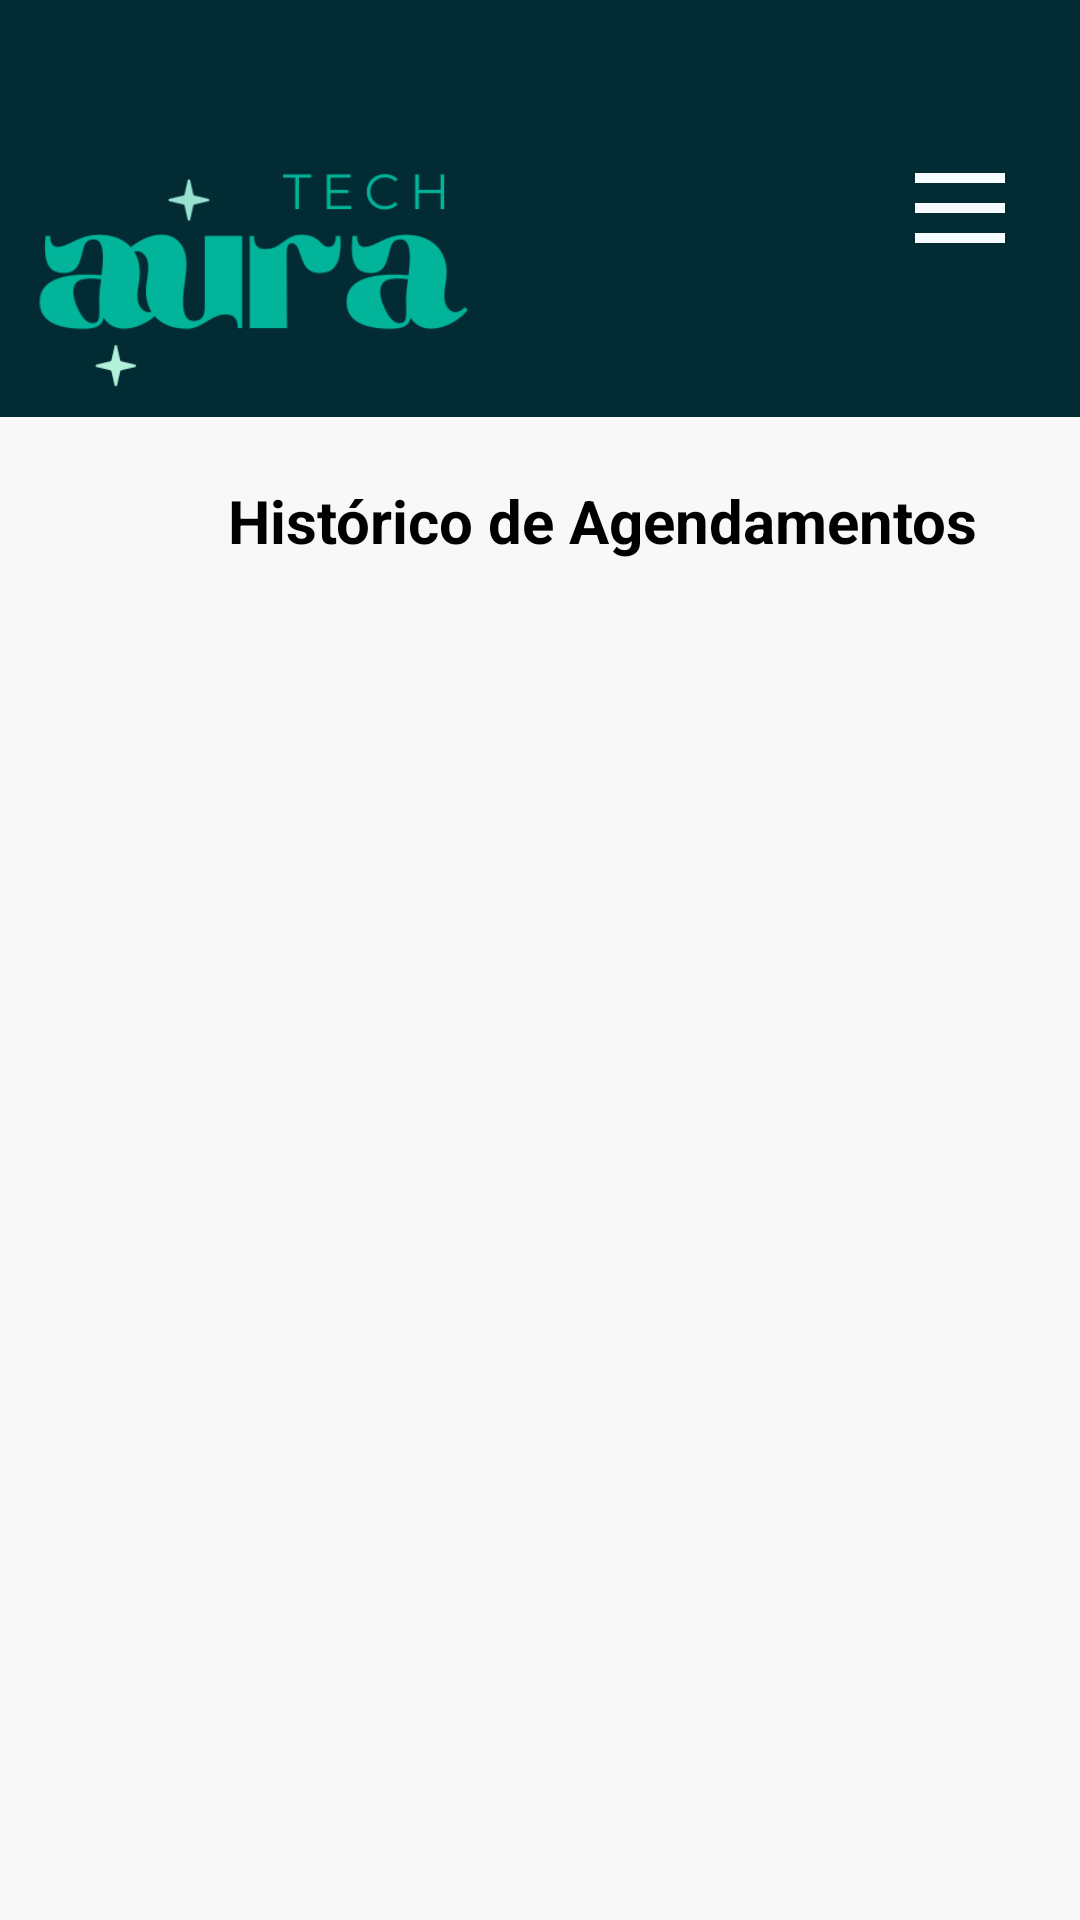

Named icons in this screenshot (1080w x 1920h) and their centers, (x,y):
Menu: (960,208)
